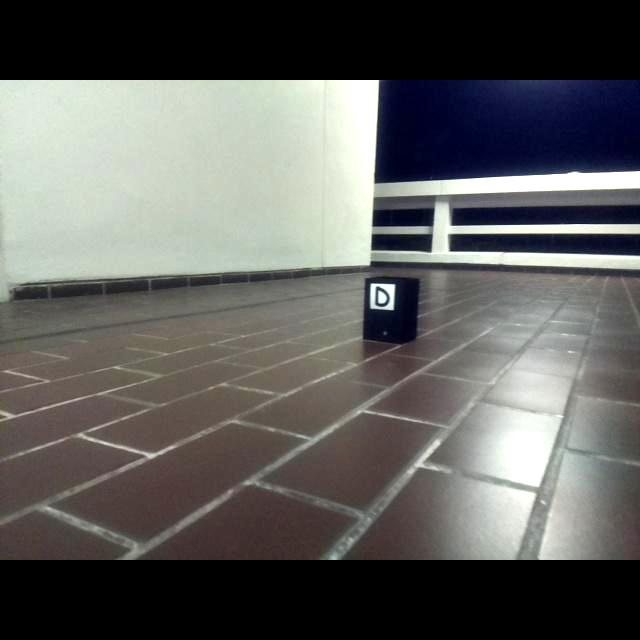D: (372, 284, 392, 307)
